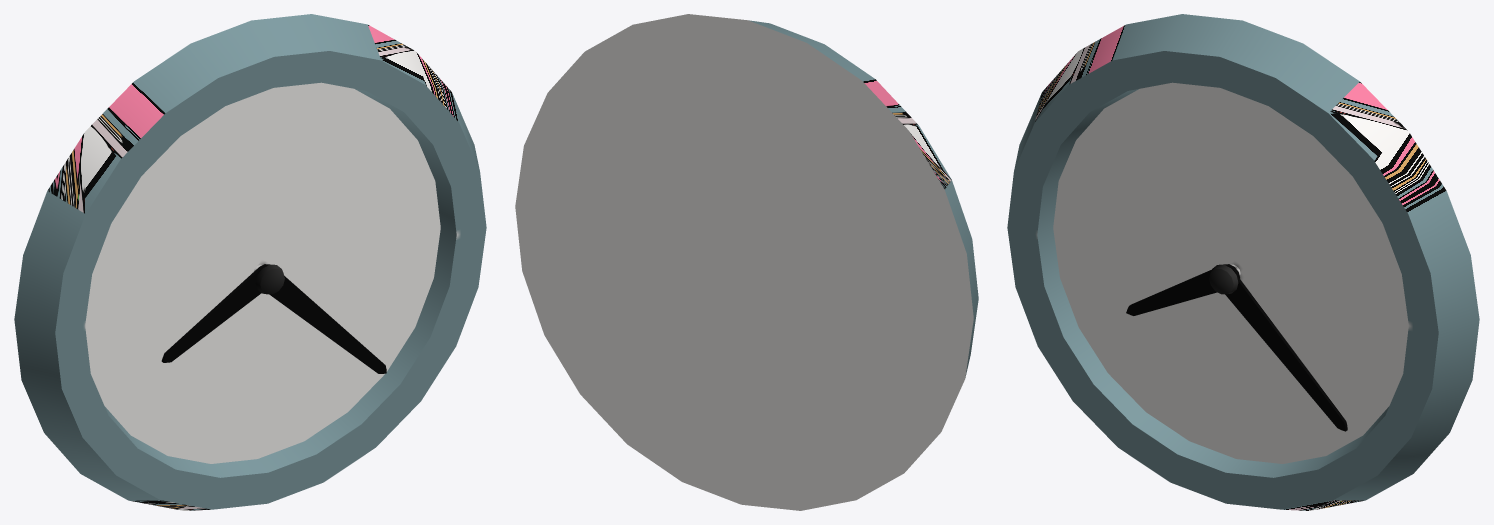
File: Bedroom_Clock.fbx
The picture shows the model from 3 angles, left to right: view 1: azimuth 30°, elevation 25°; view 2: azimuth 150°, elevation 25°; view 3: azimuth 330°, elevation 25°; orthographic projection.
Parts seen in each view (by area): view 1: Bedroom_Clock, Bedroom_Clock_Long_Needle, Bedroom_Clock_Short_Needle; view 2: Bedroom_Clock; view 3: Bedroom_Clock, Bedroom_Clock_Long_Needle, Bedroom_Clock_Short_Needle.
Boxes of the visible parts, x1,y1,x2,y2 form: Bedroom_Clock: (14,14,486,510); Bedroom_Clock_Long_Needle: (259,270,386,373); Bedroom_Clock_Short_Needle: (161,264,269,362); Bedroom_Clock: (515,14,978,510); Bedroom_Clock: (1007,14,1479,510); Bedroom_Clock_Long_Needle: (1225,270,1347,431); Bedroom_Clock_Short_Needle: (1126,264,1239,315).
Size of the model in its own units: 53.22 by 53.2 by 5.89.
